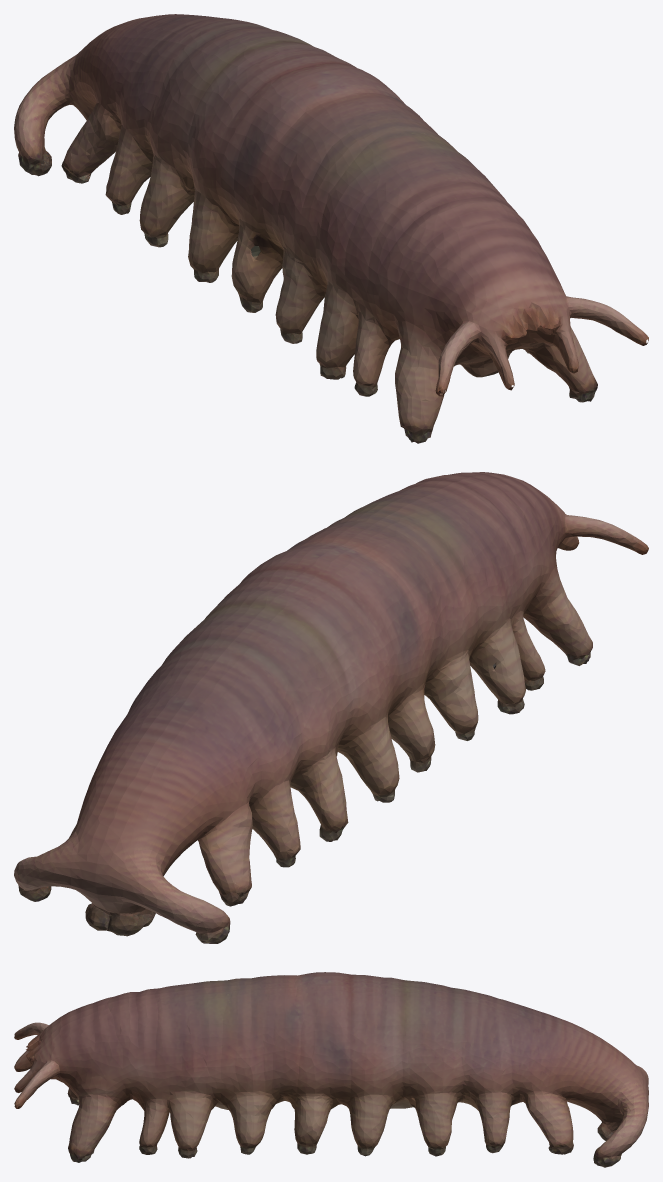
The picture shows the model from 3 angles, top to bottom: view 1: azimuth 30°, elevation 25°; view 2: azimuth 150°, elevation 25°; view 3: azimuth 270°, elevation 25°; orthographic projection. The views are drawn at different scales.
Visible parts, largest first — view 1: world; view 2: world; view 3: world.
Boxes of the visible parts, x1,y1,x2,y2 form: world: [14, 14, 648, 443]; world: [14, 472, 648, 943]; world: [14, 972, 648, 1167].
Size of the model in its own units: 0.2712 by 0.2745 by 0.9988.
1 material, 1 textured.
